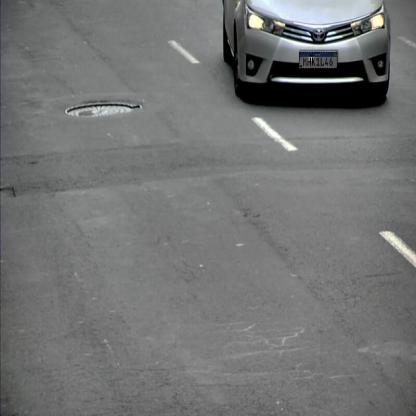PlacaM: (299, 52, 337, 69)
